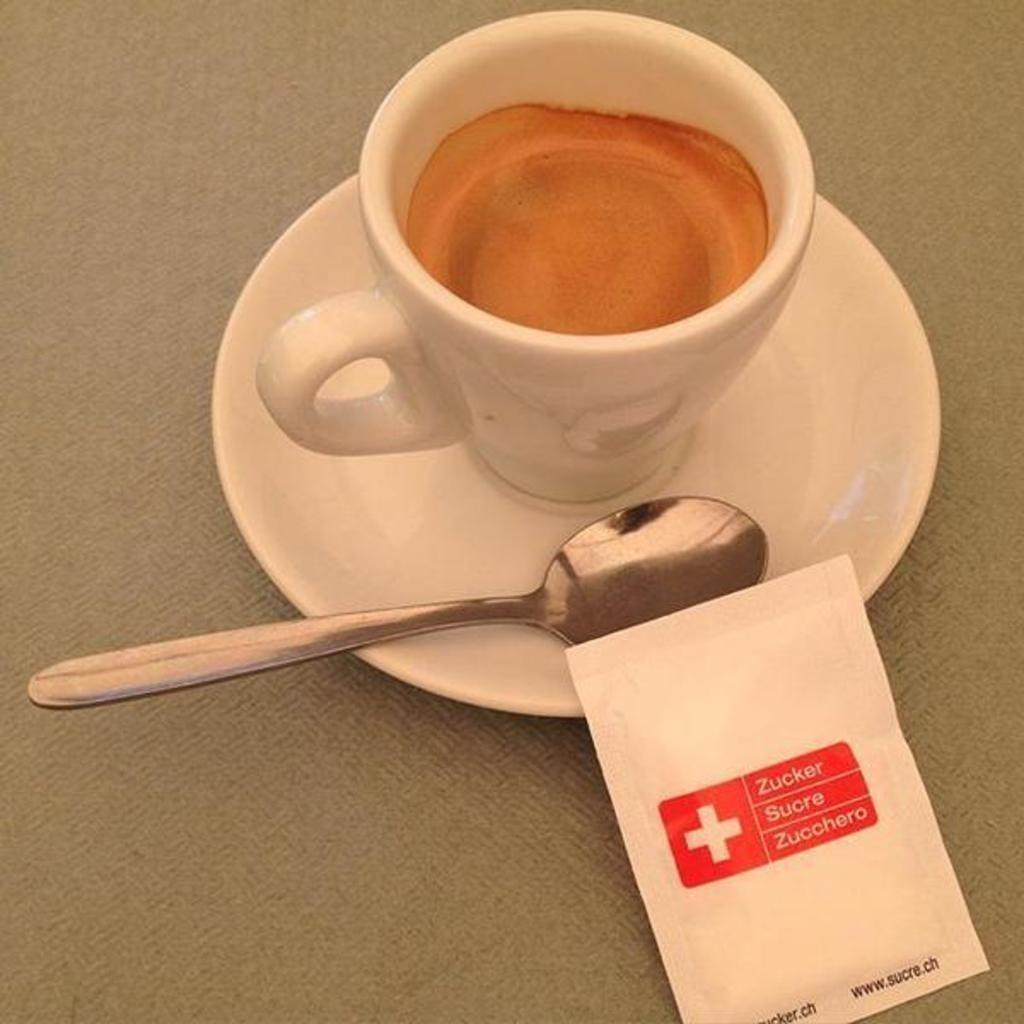cup-handle: (252, 9, 816, 507)
